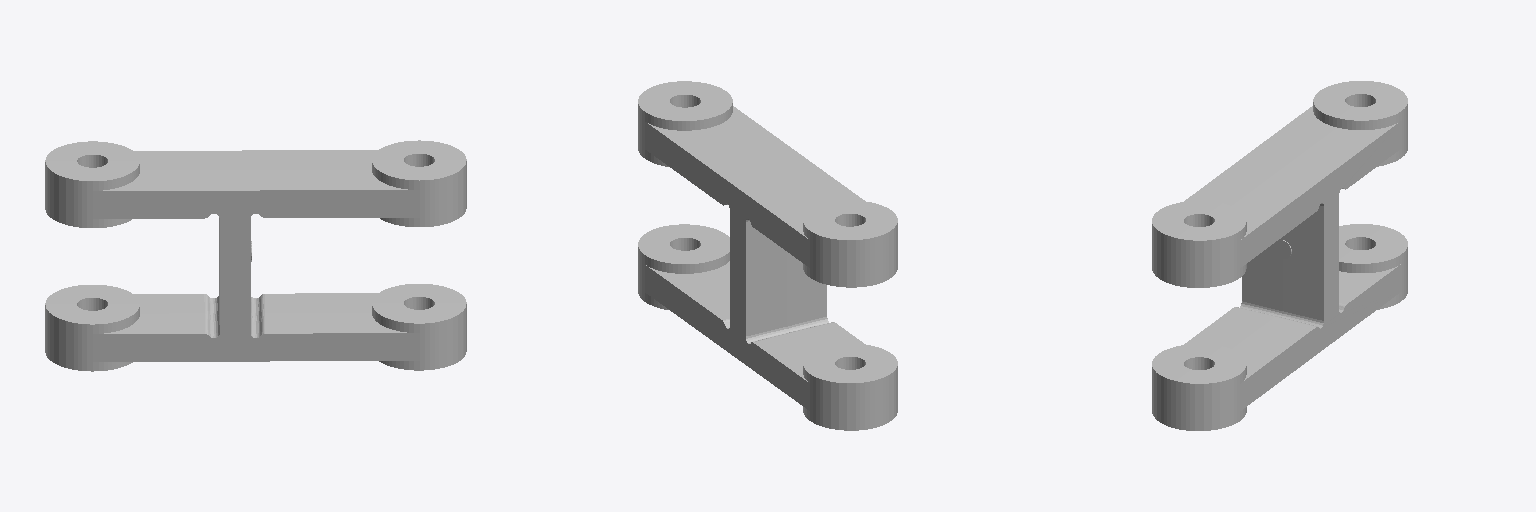
File: gripper_left2.obj
3 renders of one model, left to right at view 1: azimuth 30°, elevation 25°; view 2: azimuth 150°, elevation 25°; view 3: azimuth 270°, elevation 25°, orthographic.
Bounding box in the file's own units: 0.0359 × 0.02 × 0.0243.